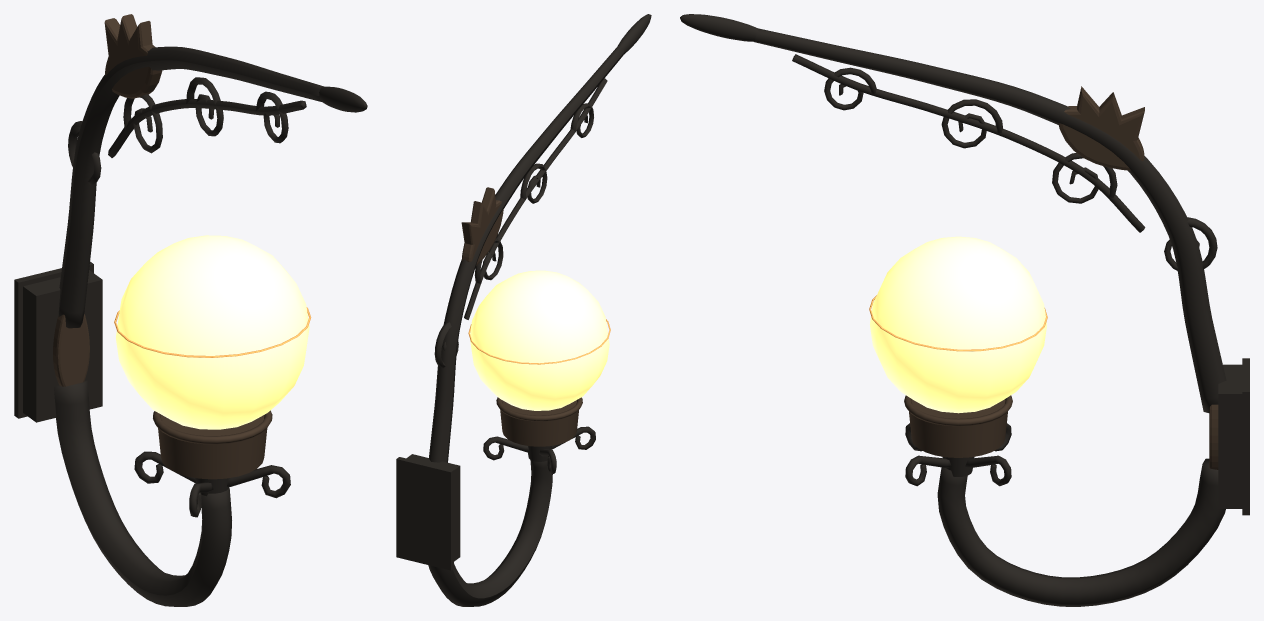
File: wall_lamp.glb
3 views of the same model, side by side, from view 1: azimuth 30°, elevation 25°; view 2: azimuth 150°, elevation 25°; view 3: azimuth 270°, elevation 25° (orthographic). The views are drawn at different scales.
Visible parts, largest first — view 1: bracket, globe, ornaments, WallLamp; view 2: bracket, globe, ornaments, WallLamp; view 3: bracket, globe, ornaments.
Boxes of the visible parts, x1,y1,x2,y2 form: bracket: (14, 46, 367, 606); globe: (116, 235, 309, 429); ornaments: (53, 14, 272, 479); WallLamp: (114, 307, 311, 357); bracket: (396, 14, 651, 606); globe: (470, 270, 609, 410); ornaments: (461, 187, 582, 446); WallLamp: (468, 319, 610, 364); bracket: (680, 14, 1249, 606); globe: (870, 236, 1046, 413); ornaments: (904, 86, 1218, 469).
Bounding box in the file's own units: 0.2826 × 1.03 × 0.8994.
